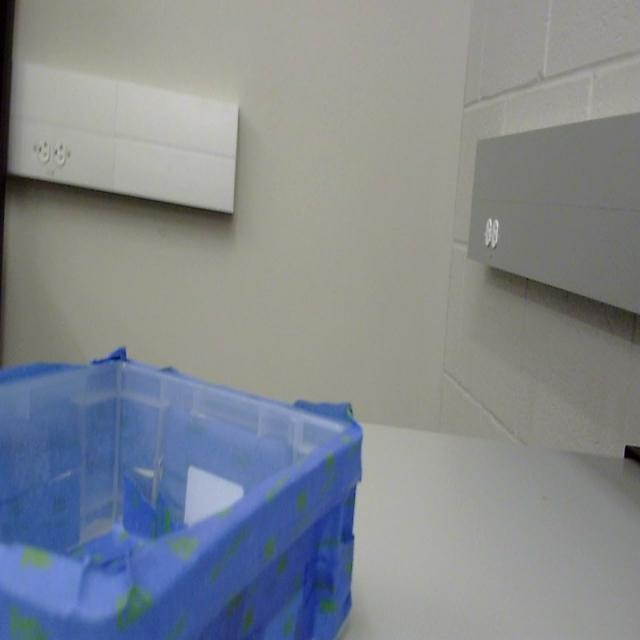bucket: (0, 355, 365, 640)
